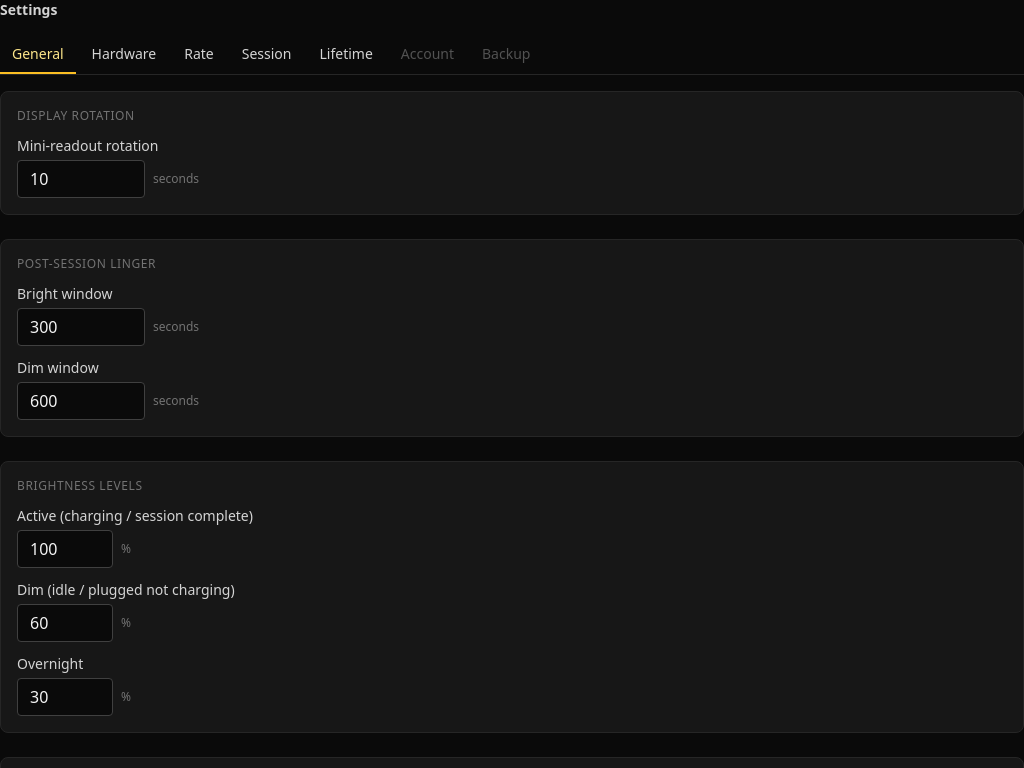
it: AdminSettings › Lifetime tab displays the offset in kWh and converts back to Wh on save
Click the button "Lifetime" at (346, 55), box [308,36,385,74]
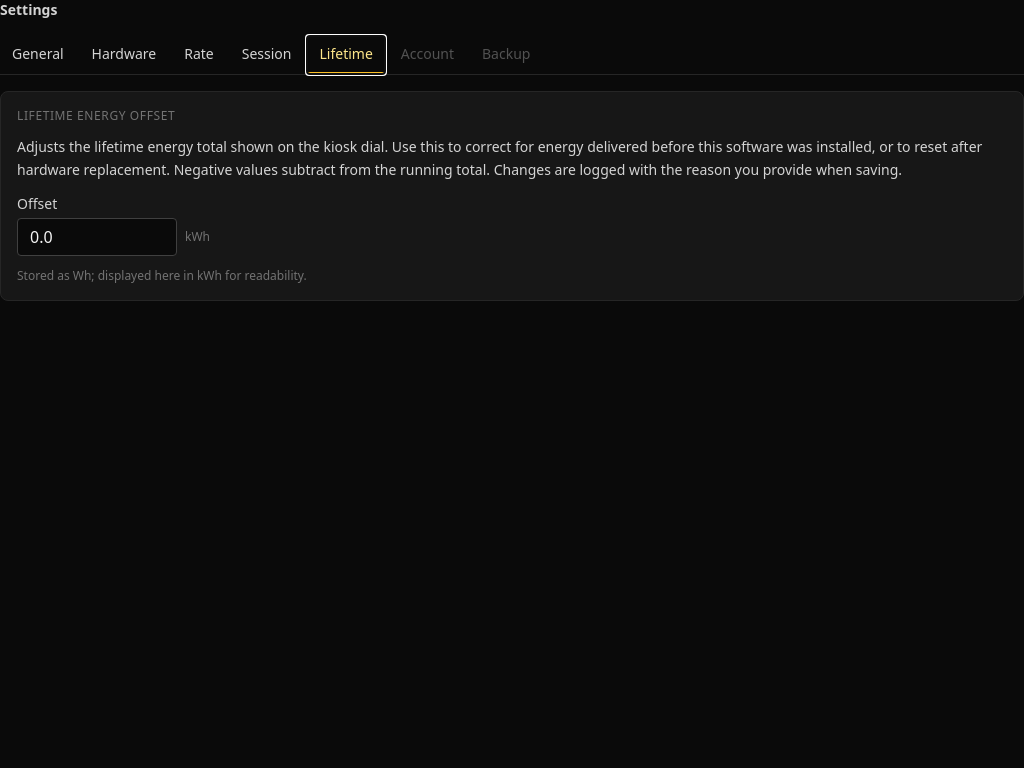
Check: the field named "lifetime offset in kwh" holds "0.0"
Replace the text in the field named "lifetime offset in kwh" with "0.7" at (97, 236), box [17,218,177,256]
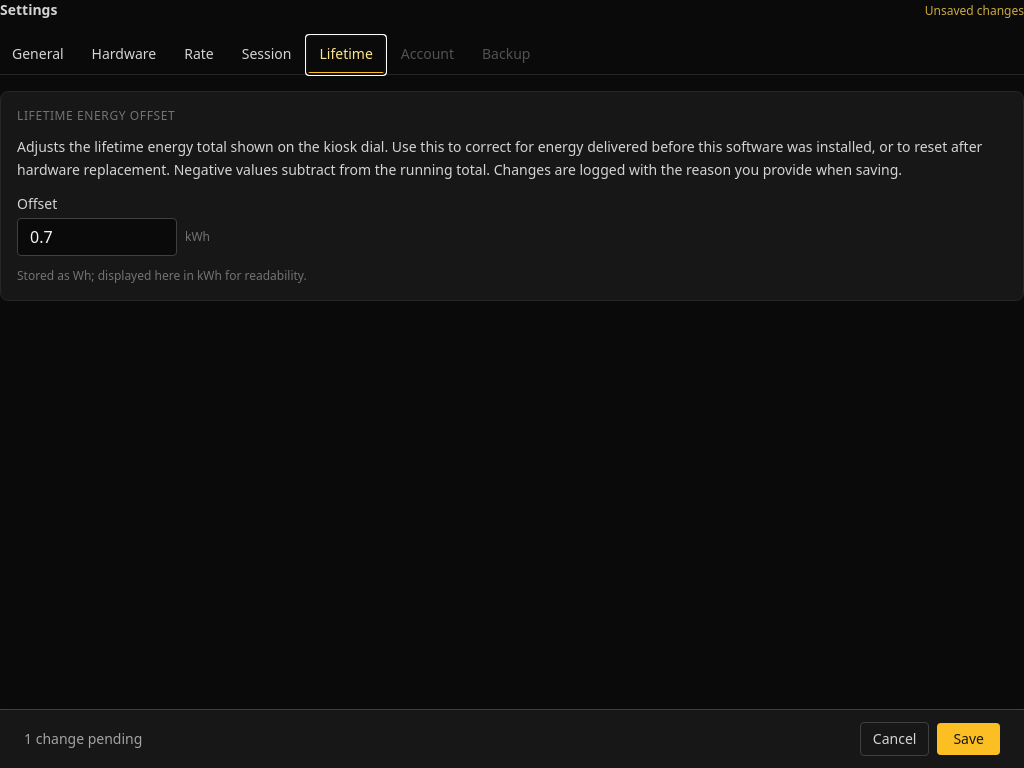
Click the button "General" at (38, 55), box [0,36,76,74]
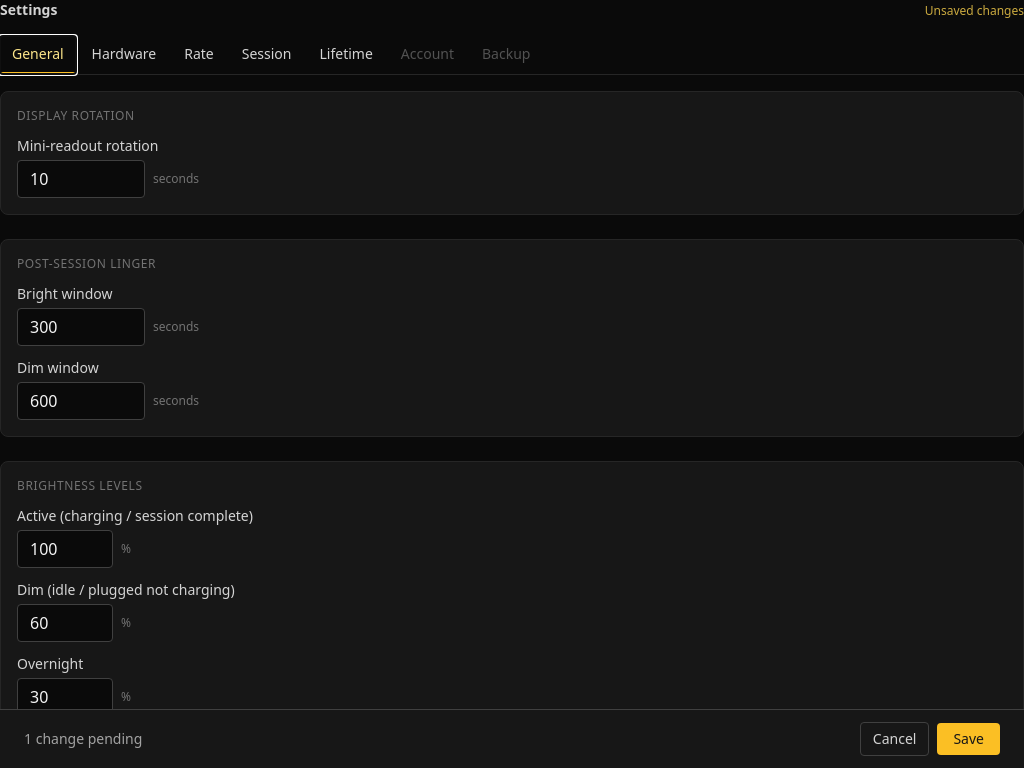
Click the button "Lifetime" at (346, 55), box [308,36,385,74]
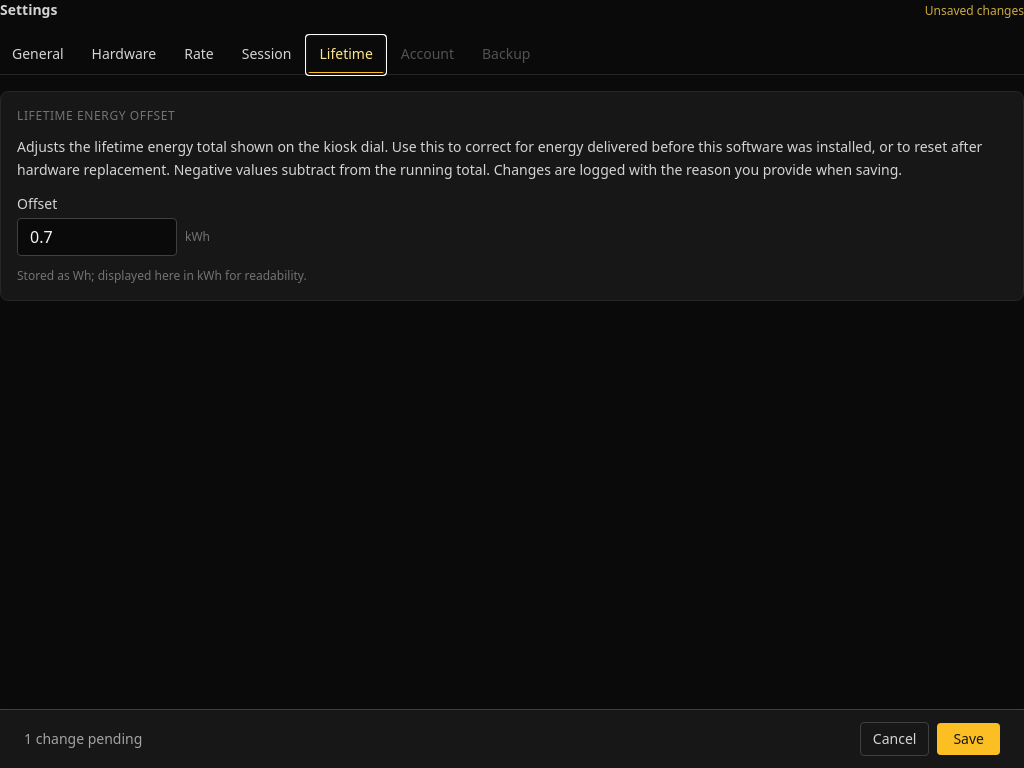
Check: the field named "lifetime offset in kwh" holds "0.7", box [17,218,177,256]
